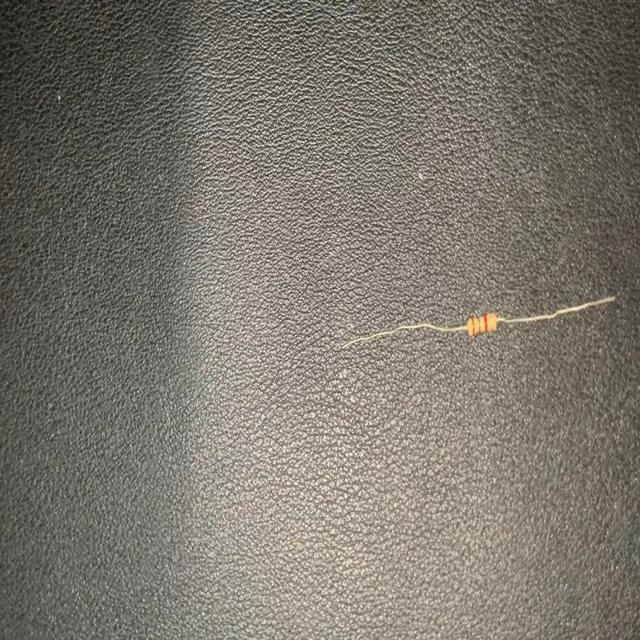resistor: (328, 288, 619, 350)
